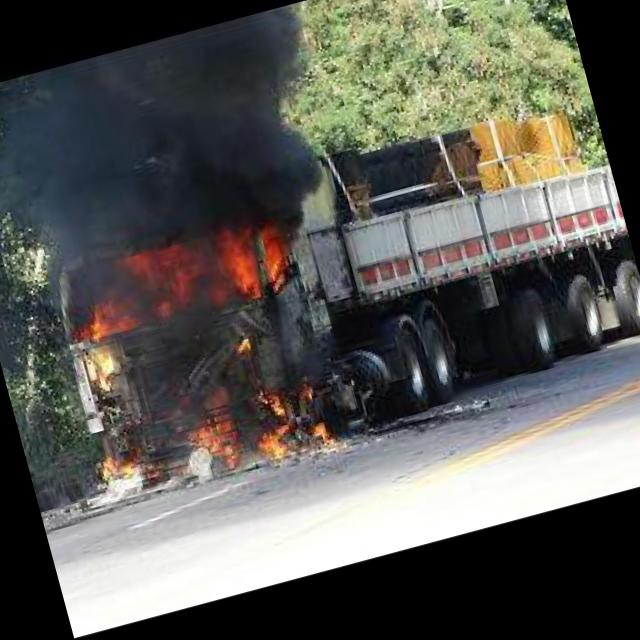fire: (53, 210, 294, 348), (169, 383, 244, 474), (84, 440, 150, 486), (251, 422, 293, 462), (258, 387, 288, 420), (309, 417, 337, 452)
smoke: (0, 0, 357, 293)
